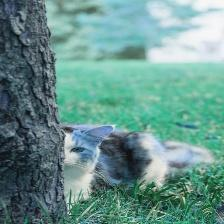kedo: (65, 126, 214, 213)
